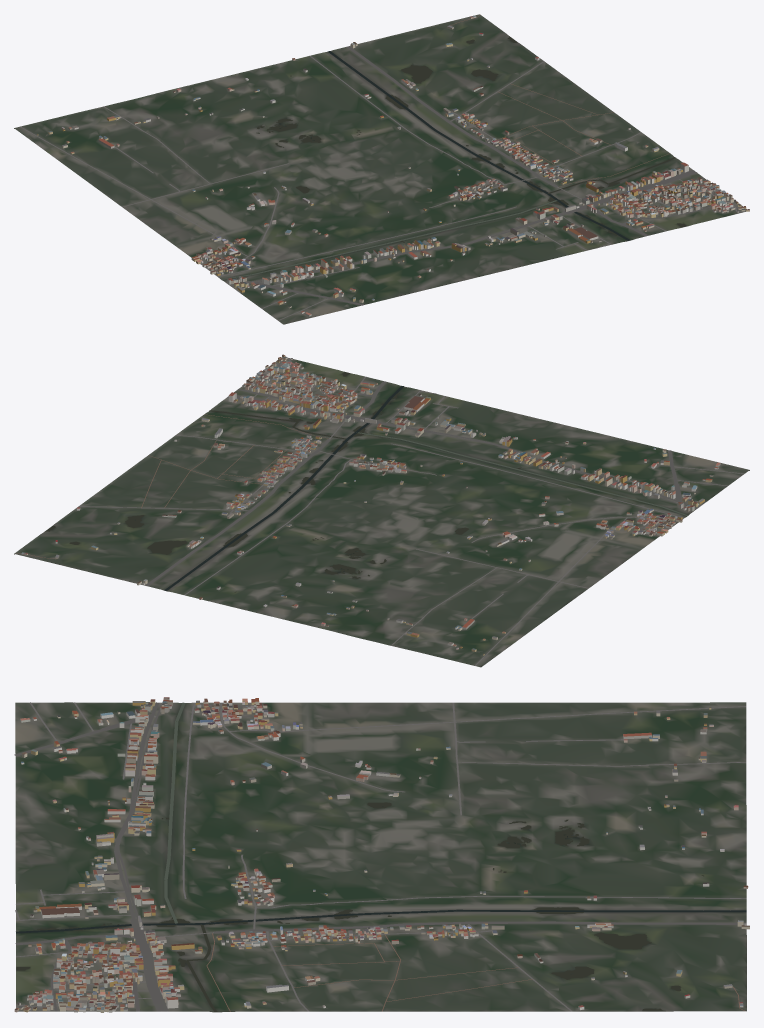
The picture shows the model from 3 angles, top to bottom: view 1: azimuth 30°, elevation 25°; view 2: azimuth 150°, elevation 25°; view 3: azimuth 270°, elevation 25°; orthographic projection. The views are drawn at different scales.
Visible parts, largest first — view 1: ground, buildings, roads, water; view 2: ground, buildings, roads, water; view 3: ground, buildings, roads, water.
Part boxes in pixels (box(x1,y1,x2,y2)): ground: box(14, 14, 746, 324); buildings: box(37, 15, 749, 316); roads: box(20, 14, 745, 320); water: box(221, 36, 686, 279); ground: box(14, 357, 749, 667); buildings: box(21, 354, 720, 655); roads: box(16, 357, 744, 665); water: box(45, 372, 688, 592); ground: box(15, 702, 746, 1012); buildings: box(14, 697, 749, 1012); roads: box(14, 702, 746, 1011); water: box(16, 702, 746, 1011).
Size of the model in its own units: 1415 by 22.39 by 1412.
